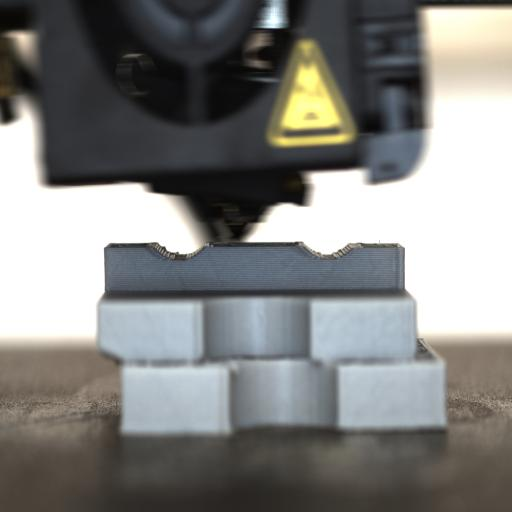layer_shift: (96, 346, 448, 372)
